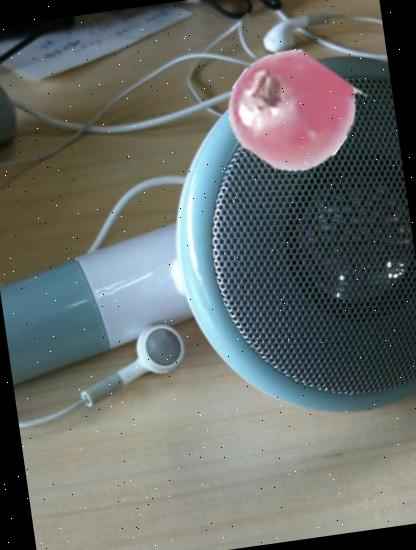Redcurrant: (221, 41, 361, 181)
